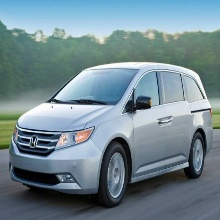no damage: (8, 62, 214, 205)
